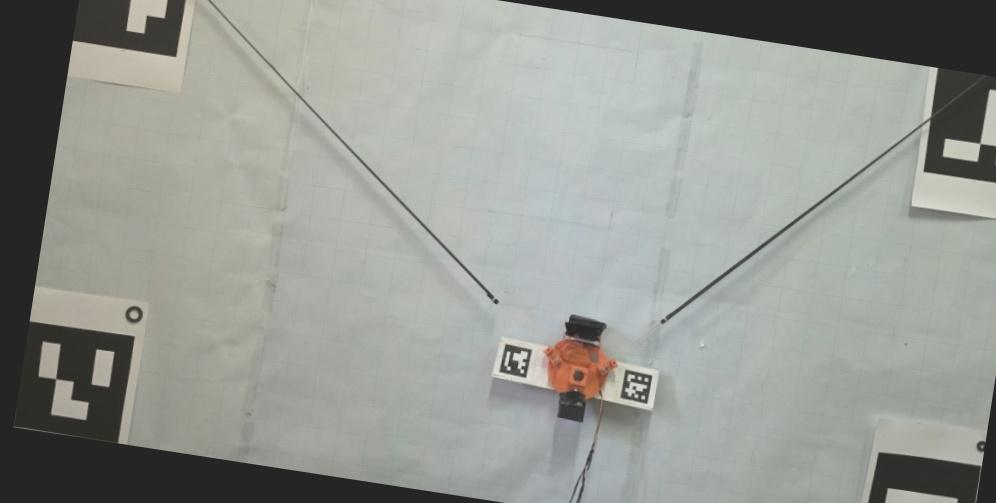robot: (542, 313, 619, 424)
